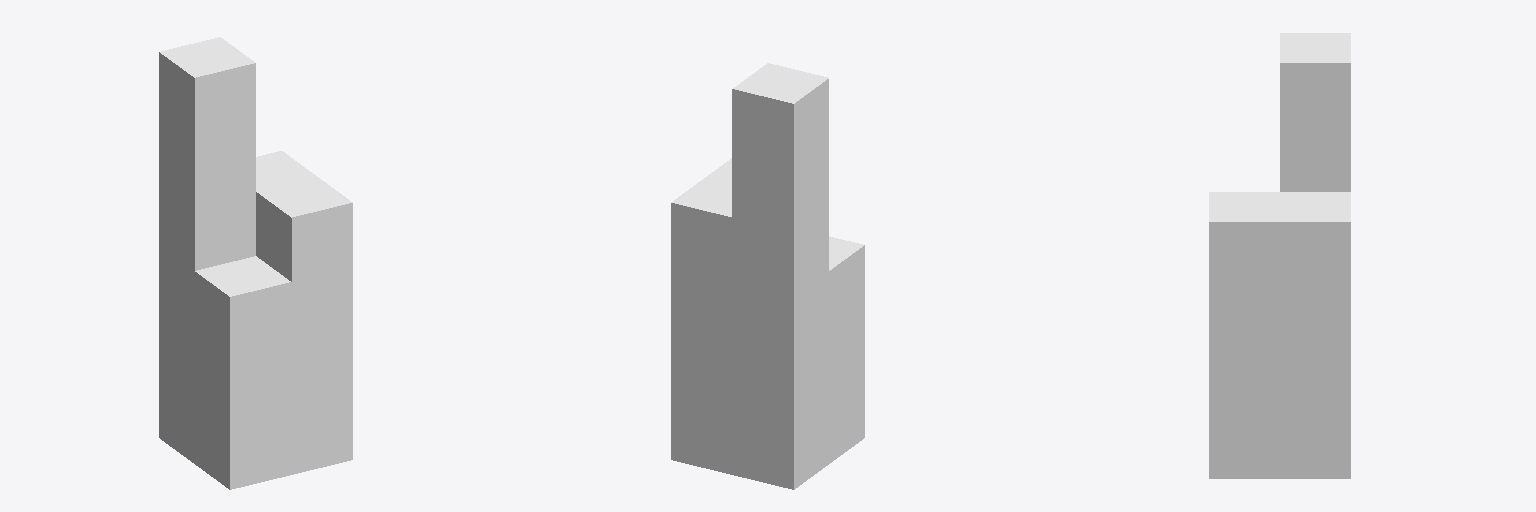
The model's file is crystal_sm2.vox.obj.
The picture shows the model from 3 angles: view 1: azimuth 30°, elevation 25°; view 2: azimuth 150°, elevation 25°; view 3: azimuth 270°, elevation 25°; orthographic projection.
Visible parts, largest first — view 1: object 1; view 2: object 1; view 3: object 1.
Boxes of the visible parts, x1=… form: object 1: x1=159, y1=37, x2=352, y2=489; object 1: x1=671, y1=63, x2=864, y2=489; object 1: x1=1209, y1=33, x2=1350, y2=478.
Size of the model in its own units: 0.2 by 0.6 by 0.2.